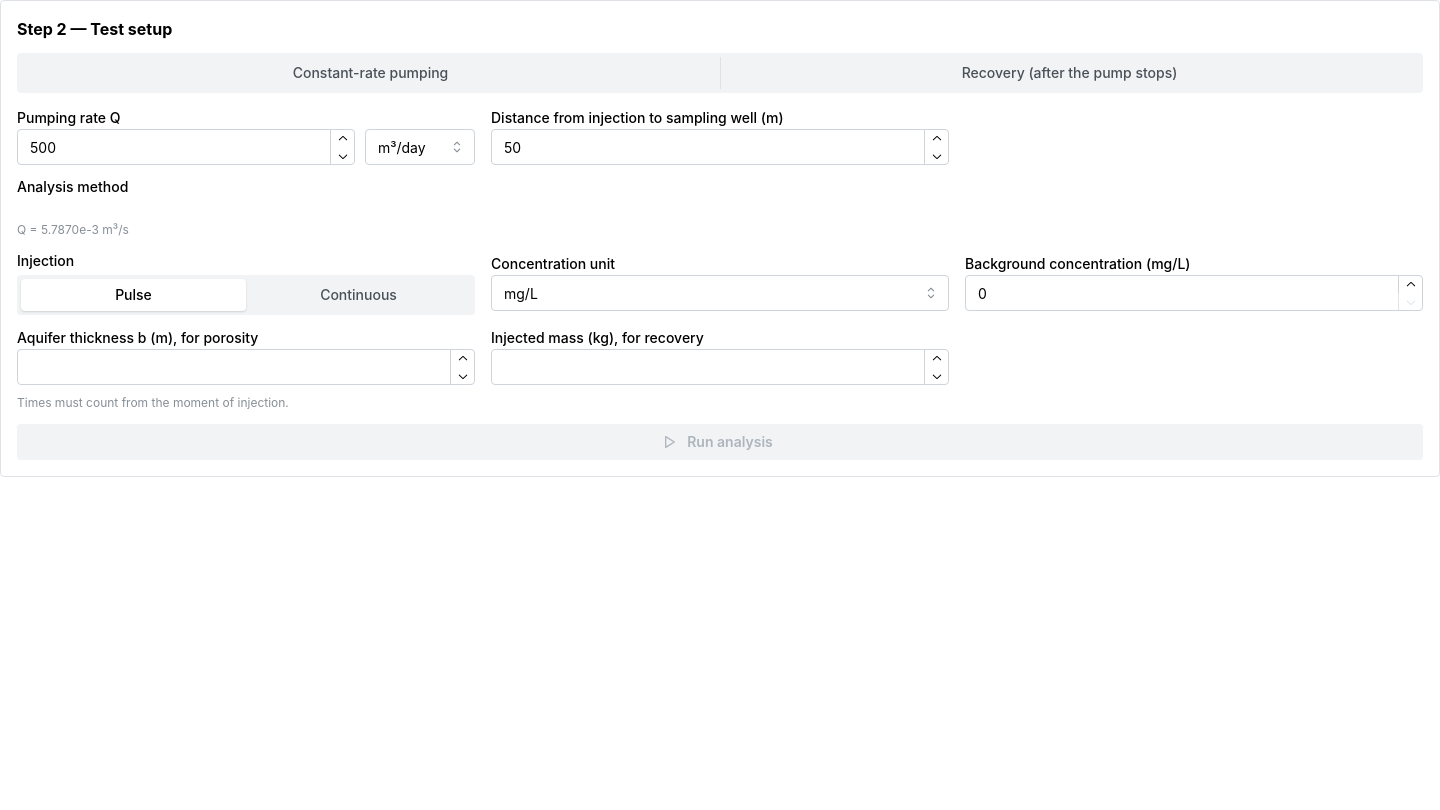
Scenario: the setup step for a tracer test › offers a plateau only for a continuous injection
This screenshot has width=1440, height=810.
expect the field labelled "Injected mass (kg), for recovery" is shown: met, box left=491, top=349, right=949, bottom=385
expect the field labelled "Plateau concentration" is not shown: met
Click the text "Continuous".
click(358, 294)  # box left=320, top=286, right=397, bottom=303
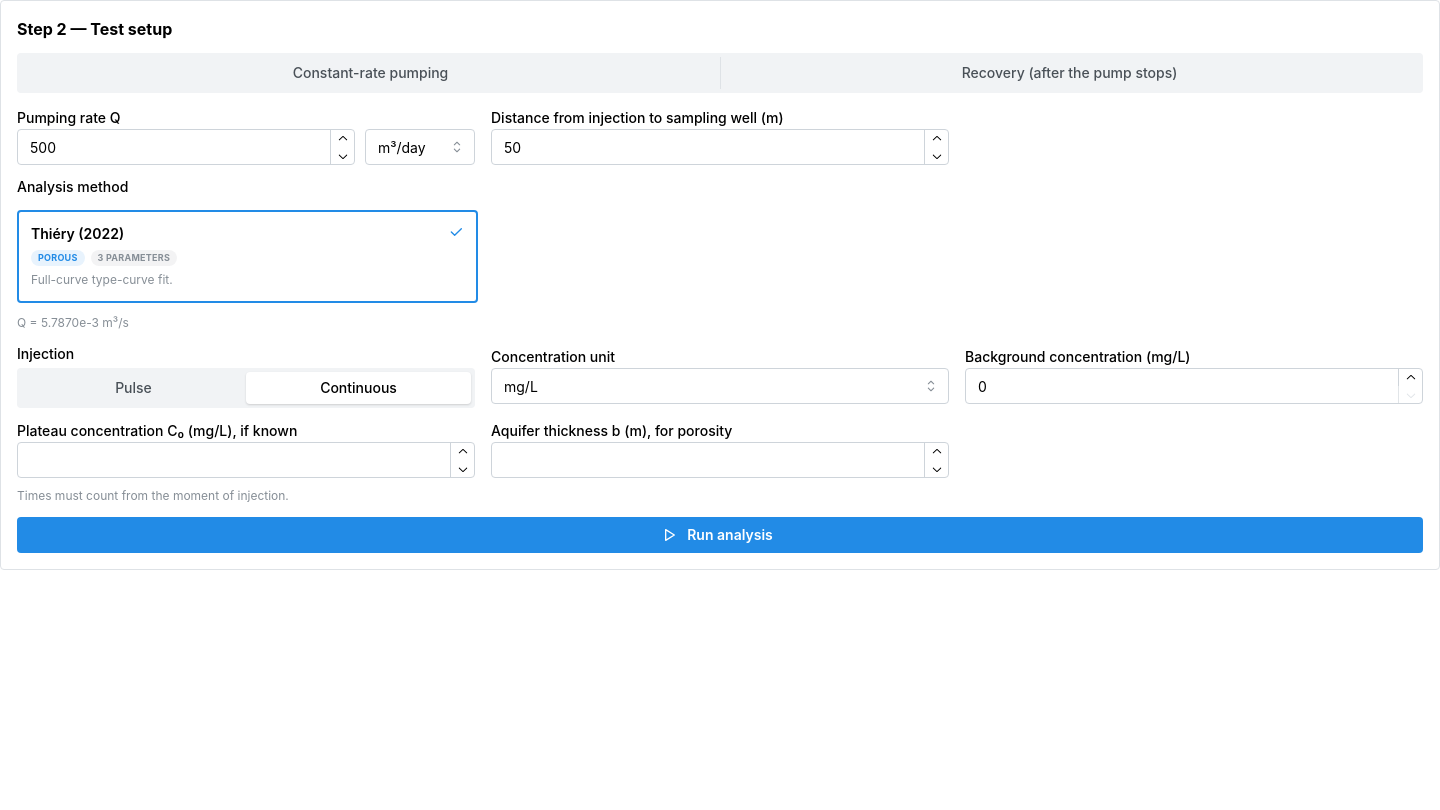
expect the field labelled "Plateau concentration C₀ (mg/L), if known" is shown: met, box left=17, top=442, right=475, bottom=478
expect the label labelled "Injected mass (kg), for recovery" is gone: met
